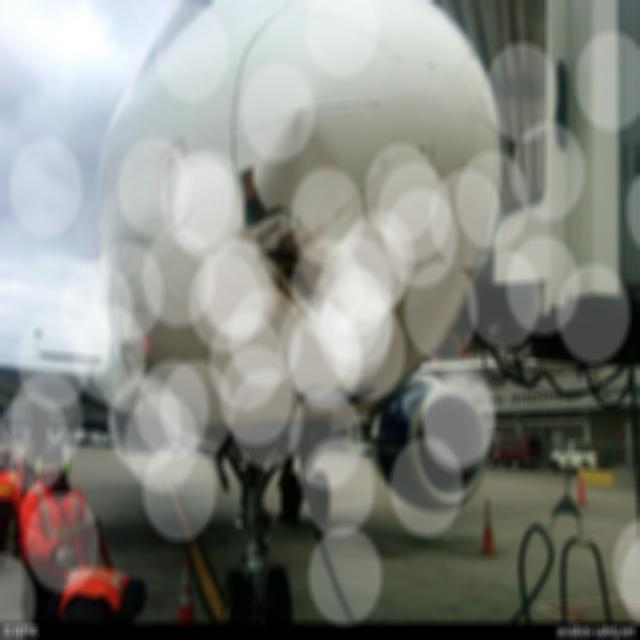dent: (266, 108, 355, 218)
